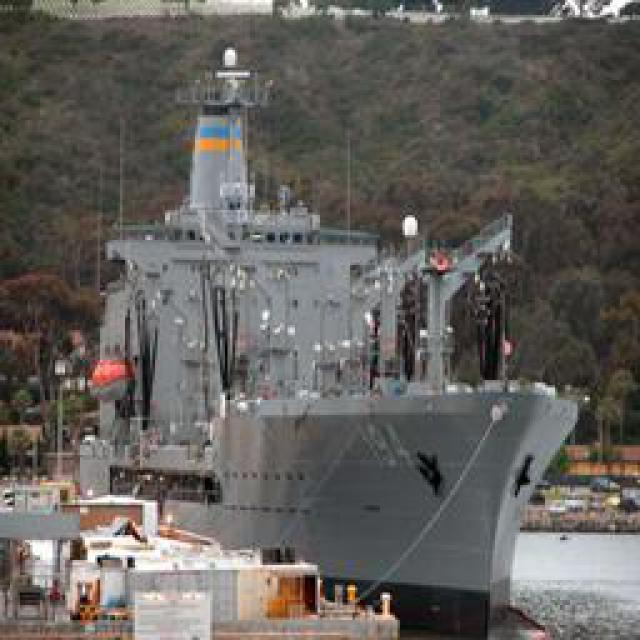Ship: (72, 51, 572, 629)
